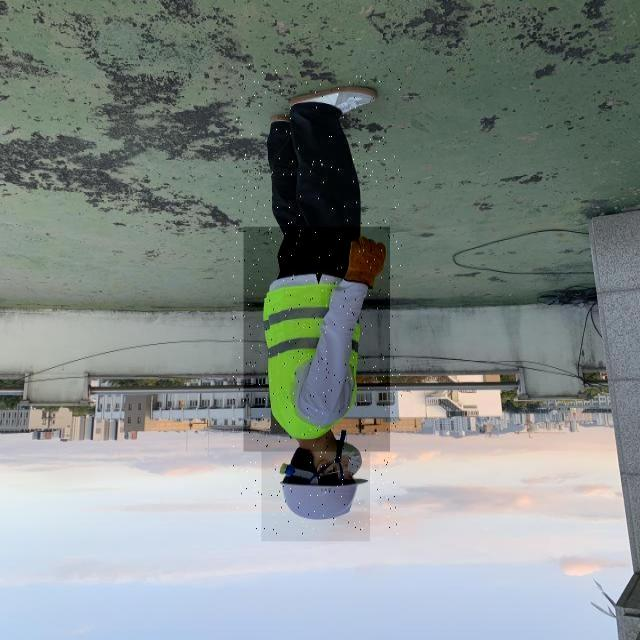Helmet: (262, 440, 370, 541)
Safety Vest: (244, 226, 390, 452)
